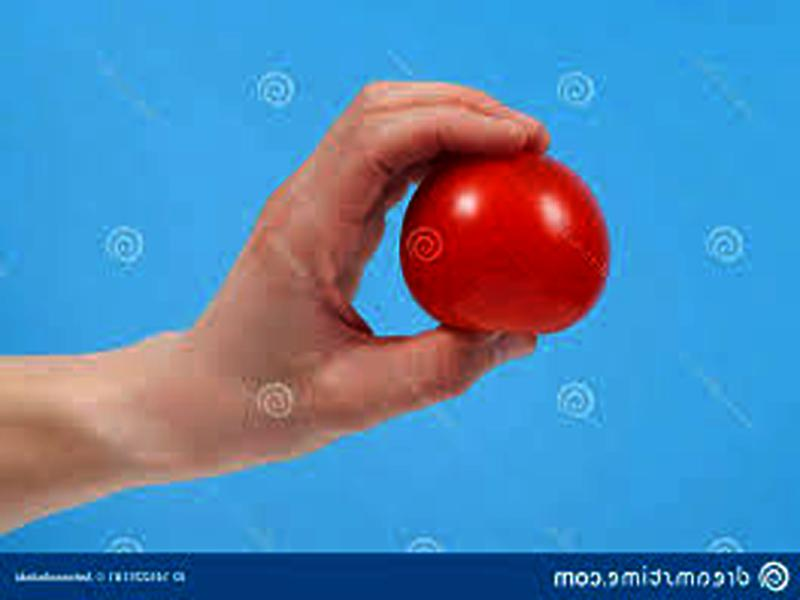Tomato: (402, 148, 608, 333)
